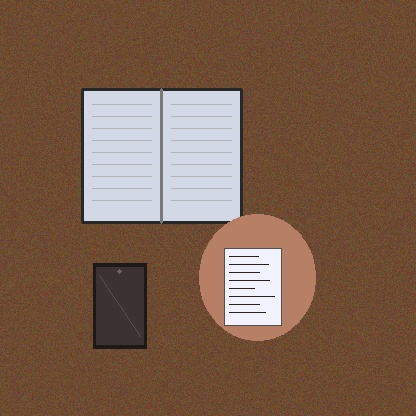book: (82, 89, 241, 222)
cell_phone: (93, 263, 146, 348)
exam_chit: (224, 248, 281, 325)
